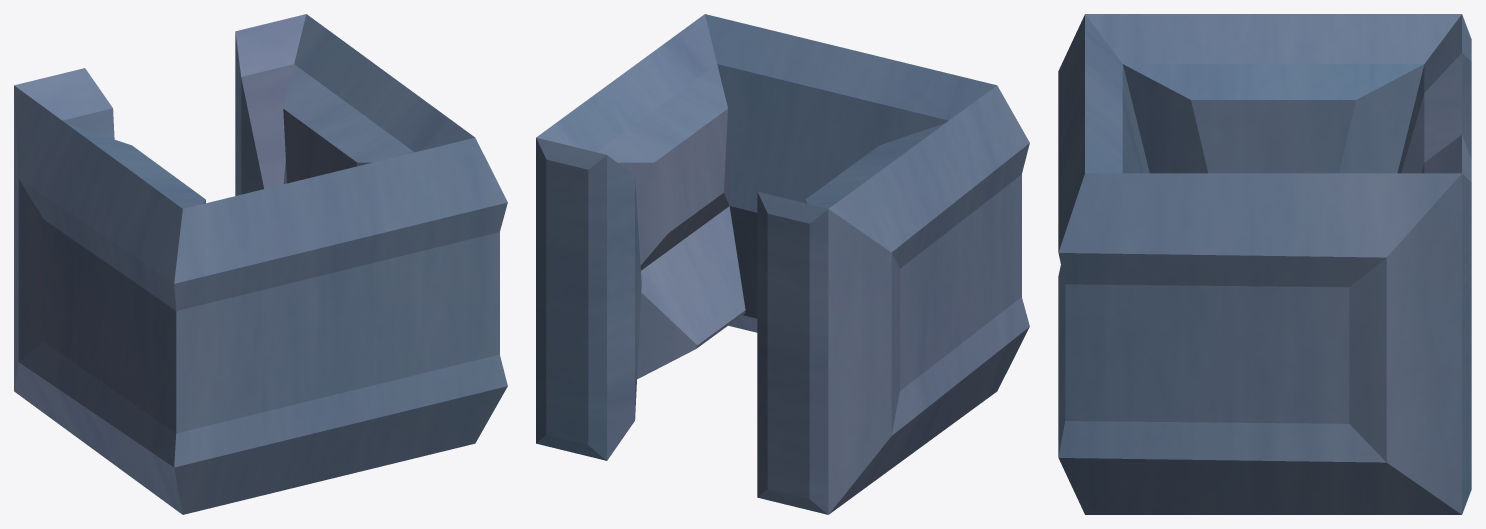
The model's file is BossBuilder.FBX.
The picture shows the model from 3 angles, left to right: view 1: azimuth 30°, elevation 25°; view 2: azimuth 150°, elevation 25°; view 3: azimuth 270°, elevation 25°; orthographic projection. The views are drawn at different scales.
Visible parts, largest first — view 1: BossBuilder; view 2: BossBuilder; view 3: BossBuilder.
Part boxes in pixels (x1,y1,x2,y2): BossBuilder: (14, 14, 507, 514); BossBuilder: (536, 14, 1029, 514); BossBuilder: (1058, 14, 1471, 514).
Bounding box in the file's own units: 12 × 10 × 10.96.
